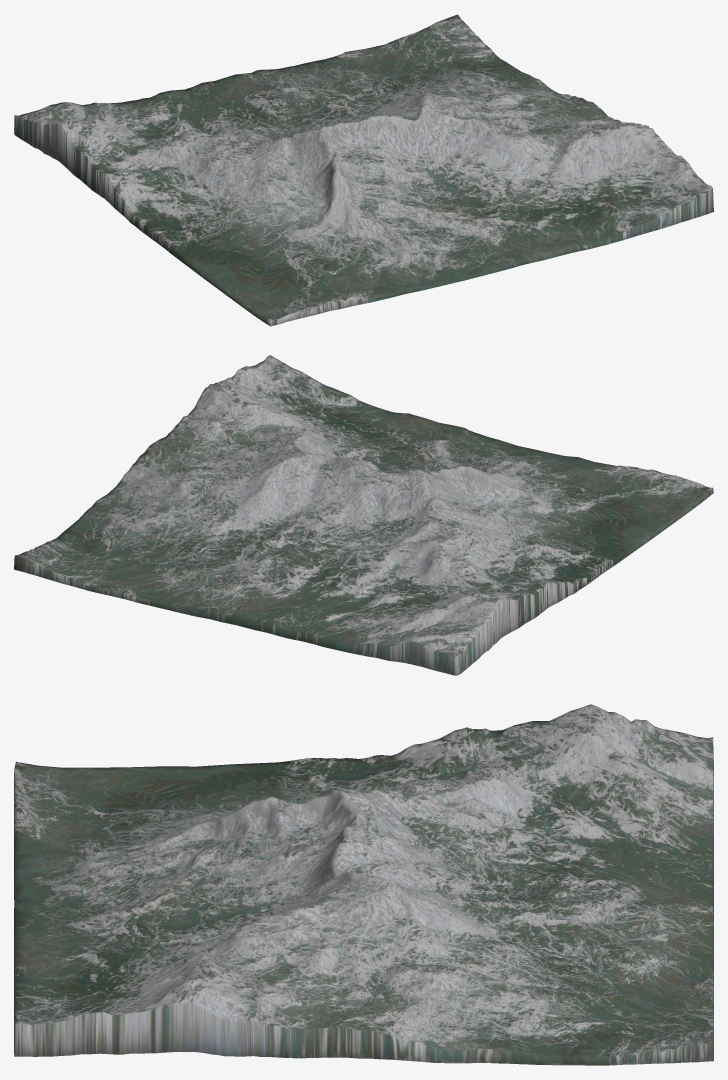
Rendered from map.glb.
The picture shows the model from 3 angles, top to bottom: view 1: azimuth 30°, elevation 25°; view 2: azimuth 150°, elevation 25°; view 3: azimuth 270°, elevation 25°; orthographic projection. The views are drawn at different scales.
Visible parts, largest first — view 1: Terrain; view 2: Terrain; view 3: Terrain.
Part boxes in pixels (x1,y1,x2,y2): Terrain: (14,14,713,326); Terrain: (14,355,713,675); Terrain: (14,704,713,1065).
Size of the model in its own units: 8193 by 1240 by 8193.
1 material, 1 textured.
